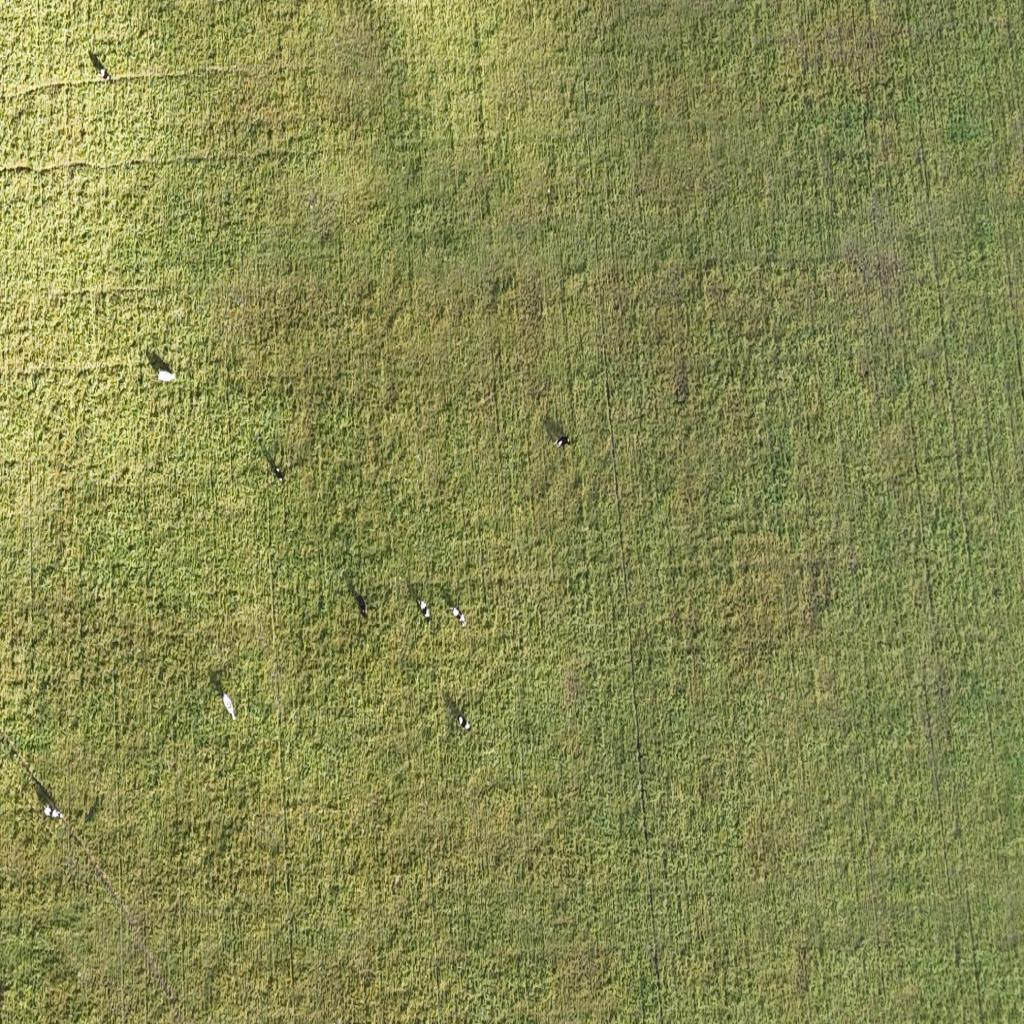cow: (220, 686, 238, 725), (416, 594, 434, 623), (97, 60, 113, 86), (554, 427, 570, 451), (454, 712, 470, 733), (451, 604, 465, 626), (45, 805, 63, 822), (158, 371, 176, 383), (275, 465, 285, 483), (360, 600, 368, 620)
